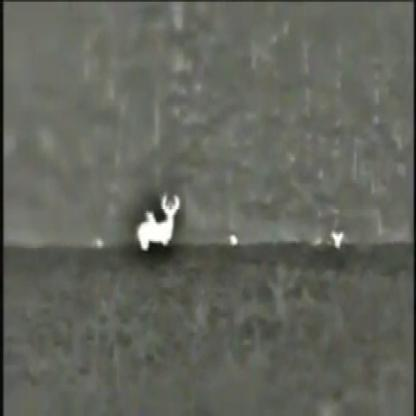rehkitze: (133, 191, 179, 252)
